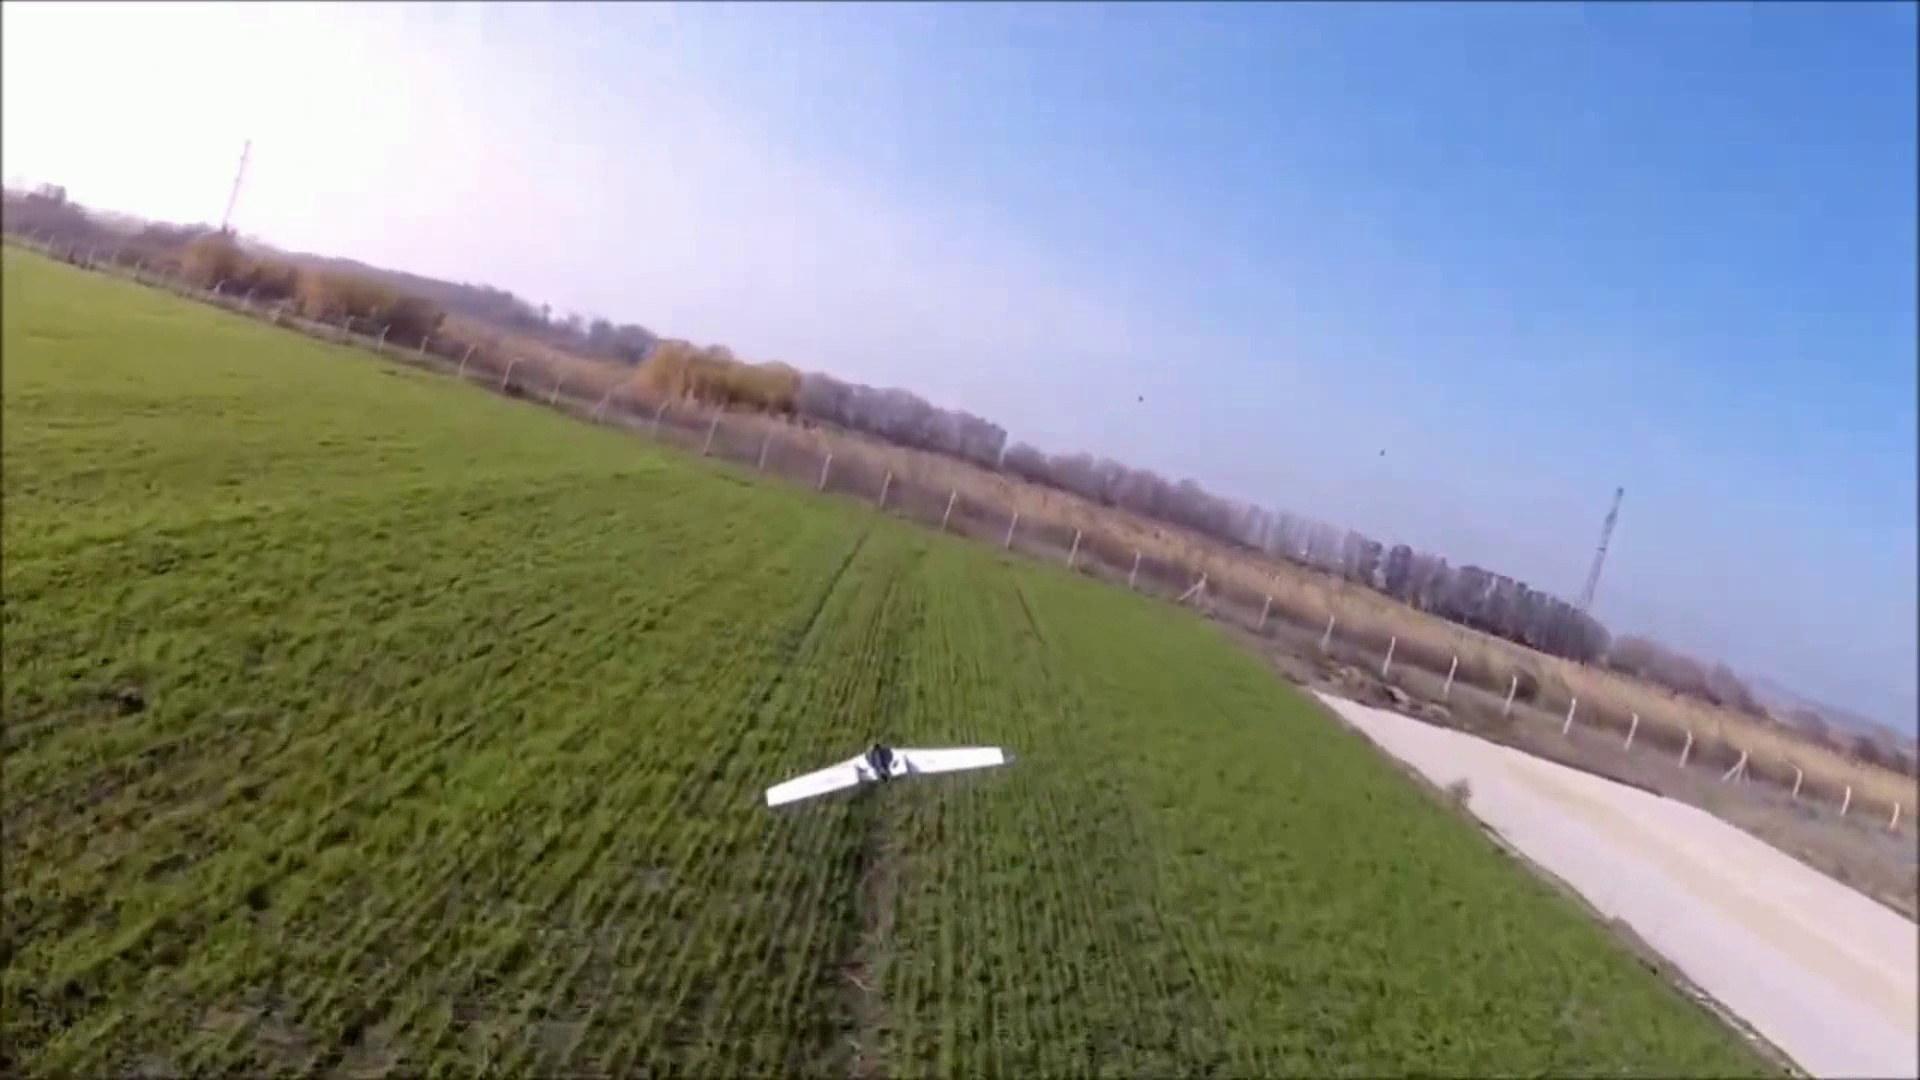airplane: (764, 738, 1010, 812)
